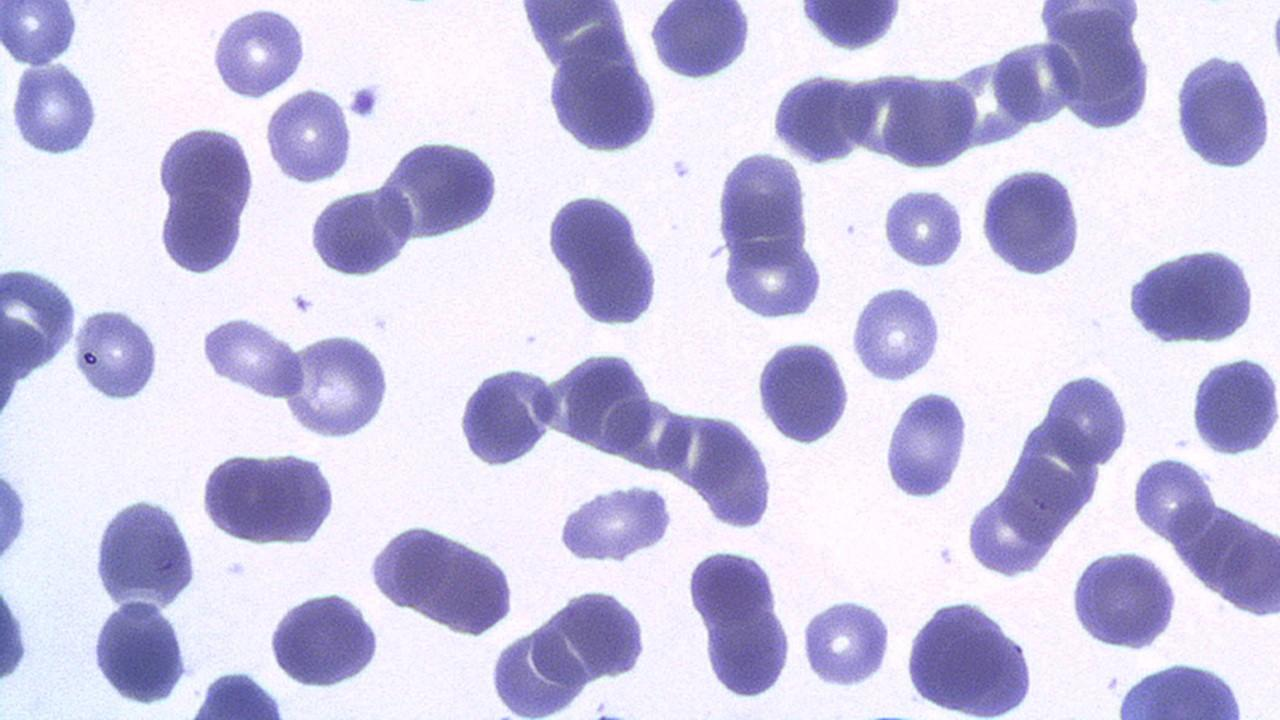Platelets: (5, 60, 105, 162), (0, 453, 33, 577), (0, 578, 33, 694), (344, 80, 383, 122), (668, 155, 693, 181), (1269, 6, 1280, 65)
RBC: (152, 119, 256, 278), (1038, 2, 1154, 135), (281, 329, 395, 441), (713, 149, 812, 270), (768, 65, 876, 166), (882, 384, 972, 502), (700, 596, 794, 702), (210, 2, 307, 104), (849, 283, 947, 382), (6, 60, 103, 160), (796, 592, 896, 688), (886, 70, 978, 173), (197, 312, 305, 399), (718, 234, 826, 321), (696, 412, 774, 532), (1041, 369, 1133, 470), (71, 303, 160, 403), (264, 86, 352, 187), (686, 544, 779, 632), (1131, 452, 1217, 544), (995, 36, 1077, 128), (838, 67, 918, 160), (881, 184, 964, 270), (0, 1, 80, 70)
WBC: (393, 0, 1280, 720), (0, 0, 585, 720), (6, 0, 530, 340), (494, 580, 656, 716), (529, 15, 671, 157), (363, 516, 518, 636), (902, 592, 1046, 716), (542, 188, 665, 332), (152, 117, 256, 278), (1036, 2, 1156, 134), (0, 252, 79, 452), (1122, 241, 1262, 349), (378, 131, 508, 241), (200, 447, 340, 549), (90, 492, 201, 618), (281, 324, 395, 443), (85, 596, 200, 712), (1171, 49, 1277, 173), (976, 161, 1085, 279), (757, 69, 891, 163), (265, 586, 385, 690), (453, 358, 562, 470), (710, 152, 814, 268), (1069, 546, 1181, 652), (754, 334, 854, 447), (207, 2, 318, 103), (307, 181, 418, 280), (555, 478, 678, 566), (880, 386, 972, 500), (849, 282, 950, 384), (1041, 364, 1135, 470), (1188, 350, 1280, 458), (698, 602, 796, 702), (6, 62, 102, 161), (684, 545, 784, 640), (645, 2, 757, 82), (1110, 656, 1250, 719), (794, 1, 908, 54), (1, 3, 83, 68), (1, 453, 31, 587), (1, 574, 32, 700)
